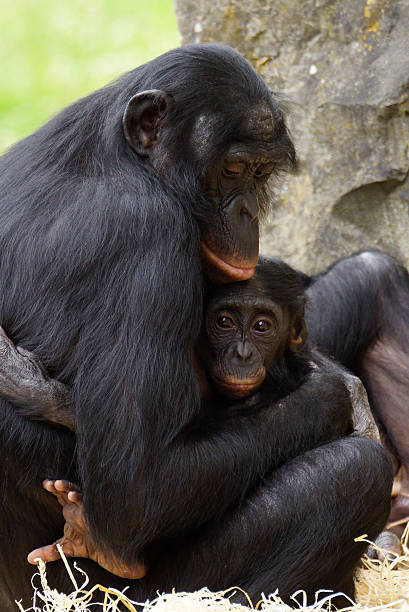chimpanzee: (145, 54, 333, 286), (192, 250, 309, 427)
